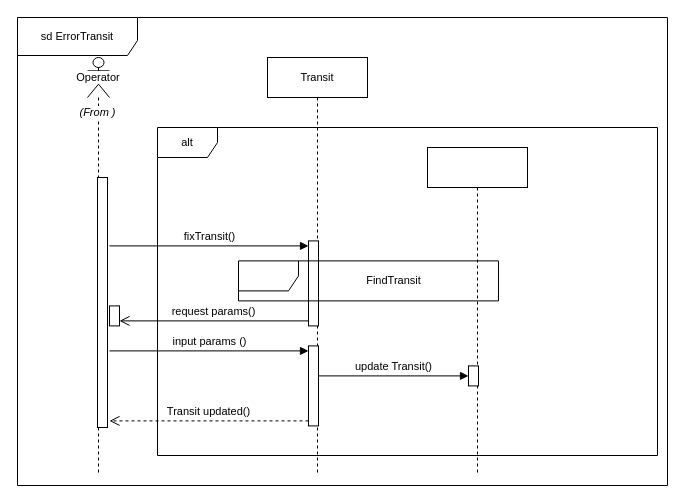
Some shapes in this 685 by 503 pixel diagram are drawn without their labels. Each missing label, with the box of its shape:
:Transit: (426, 146, 528, 476)
ref: (238, 260, 498, 301)
